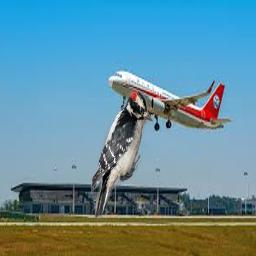Woodpecker: (91, 91, 154, 221)
